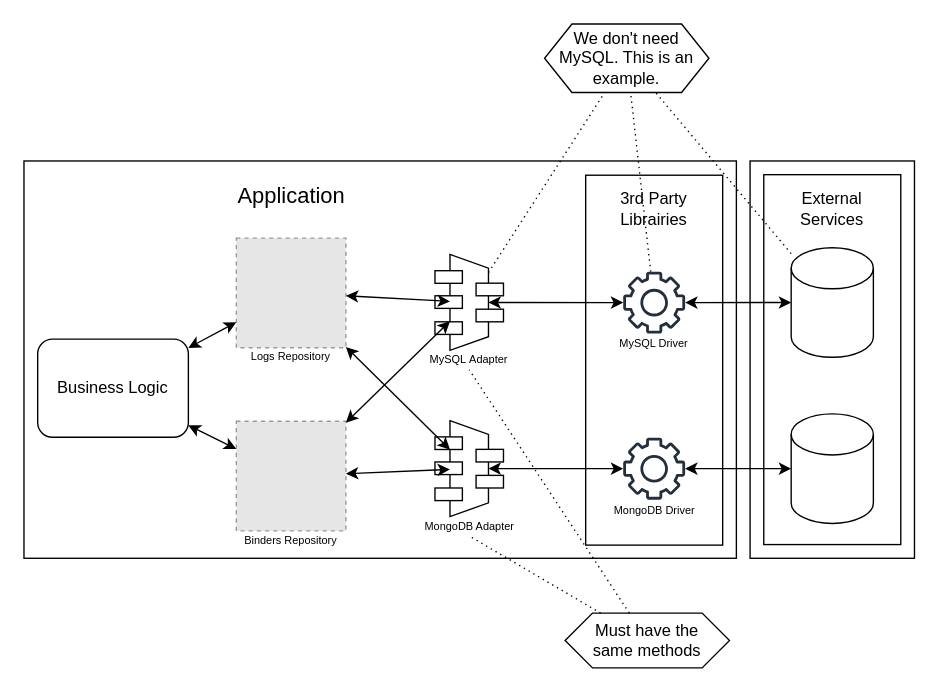
This 938x692 diagram has some shape labels left out. Grey dashed boxes stand in for pictures. The centre of each missing label's shape, as x and y in pixels:
MongoDB: the point at 831,468
MySQL: the point at 831,301
